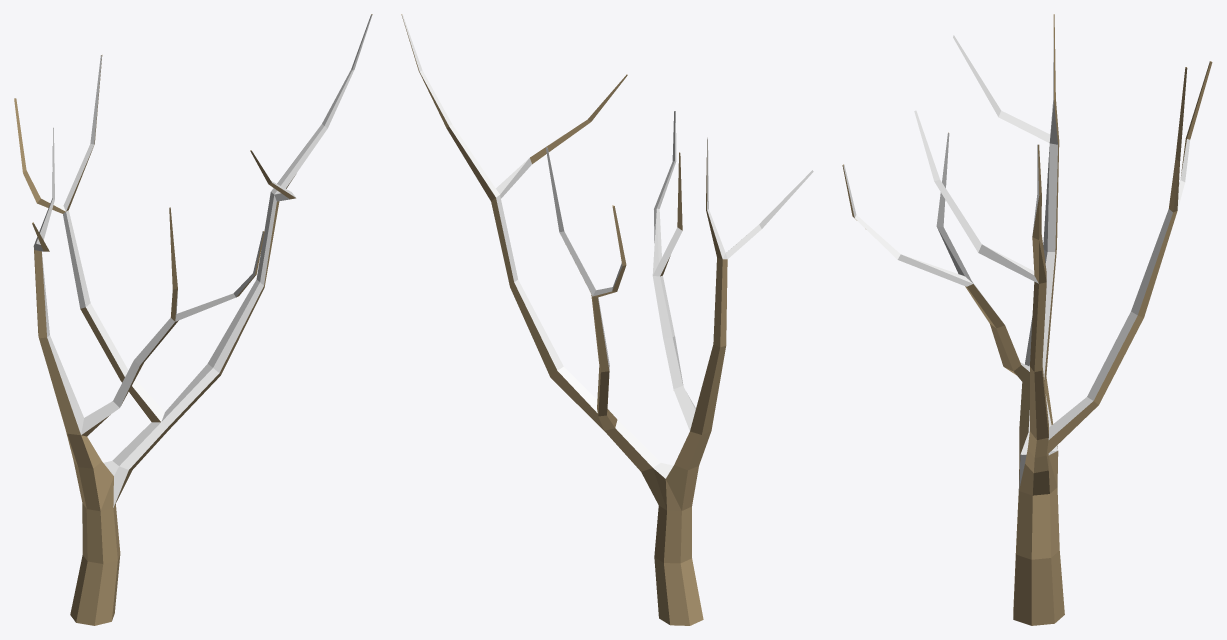
The model's file is Acacia_Tree_NoLeaves_l_Snow_02_LOD.fbx.
3 views of the same model, side by side, from view 1: azimuth 30°, elevation 25°; view 2: azimuth 150°, elevation 25°; view 3: azimuth 270°, elevation 25° (orthographic). The views are drawn at different scales.
Visible parts, largest first — view 1: Acacia_Tree_NoLeaves_l_Snow_02_LOD0; view 2: Acacia_Tree_NoLeaves_l_Snow_02_LOD0; view 3: Acacia_Tree_NoLeaves_l_Snow_02_LOD0.
Boxes of the visible parts, x1,y1,x2,y2 form: Acacia_Tree_NoLeaves_l_Snow_02_LOD0: (14,14,372,625); Acacia_Tree_NoLeaves_l_Snow_02_LOD0: (401,14,813,625); Acacia_Tree_NoLeaves_l_Snow_02_LOD0: (842,14,1212,625).
Size of what is drawn, in the model's own units: 834 by 1131 by 600.
